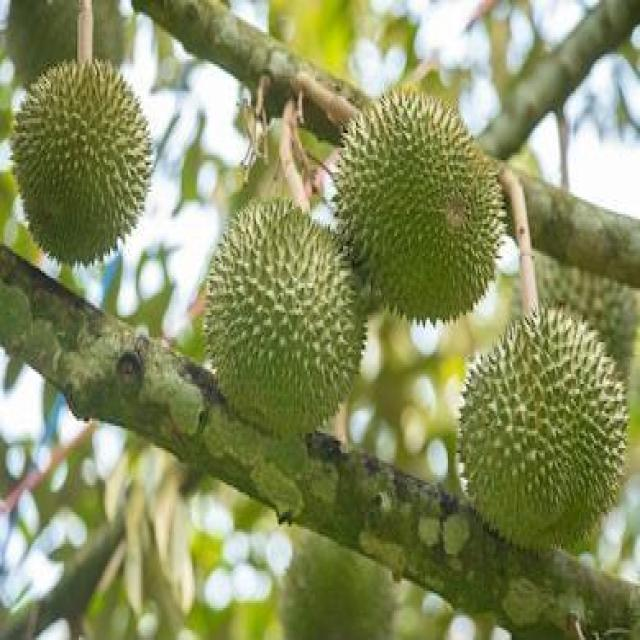immature: (456, 298, 628, 554), (326, 85, 508, 325), (207, 193, 367, 439), (7, 49, 151, 269)
